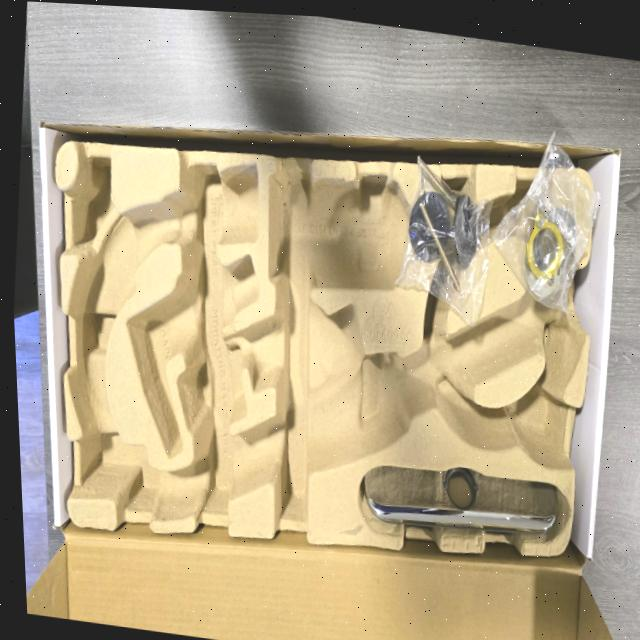1m: (67, 164, 590, 515)
2m: (128, 253, 257, 457)
3m: (266, 178, 436, 286)
4: (361, 465, 558, 531)
5m: (515, 389, 562, 460)
6: (494, 129, 602, 317)
7: (392, 154, 494, 332)
